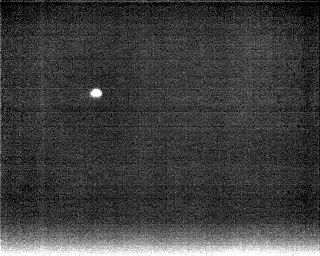AIRPLANE: (88, 86, 105, 102)
